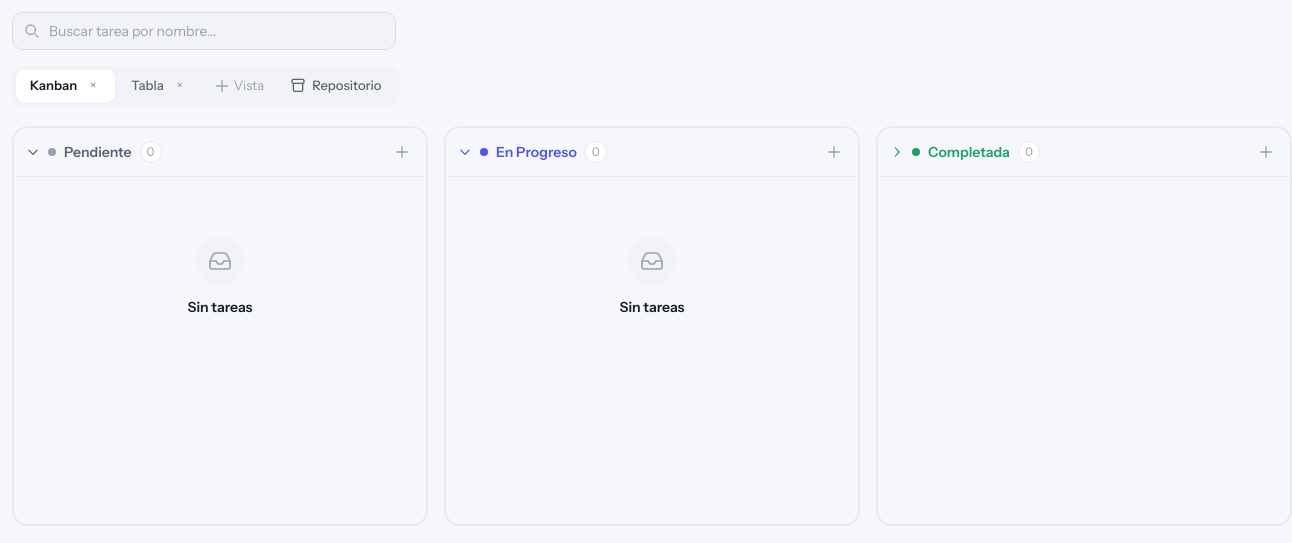
Test: TasksModule — barra de vistas › el panel de agregar vista no queda bajo un ancestro que lo recorte
The width and height of the screenshot is (1292, 543).
Click the button "Vista". click: (239, 86)
box: [204,70,274,102]
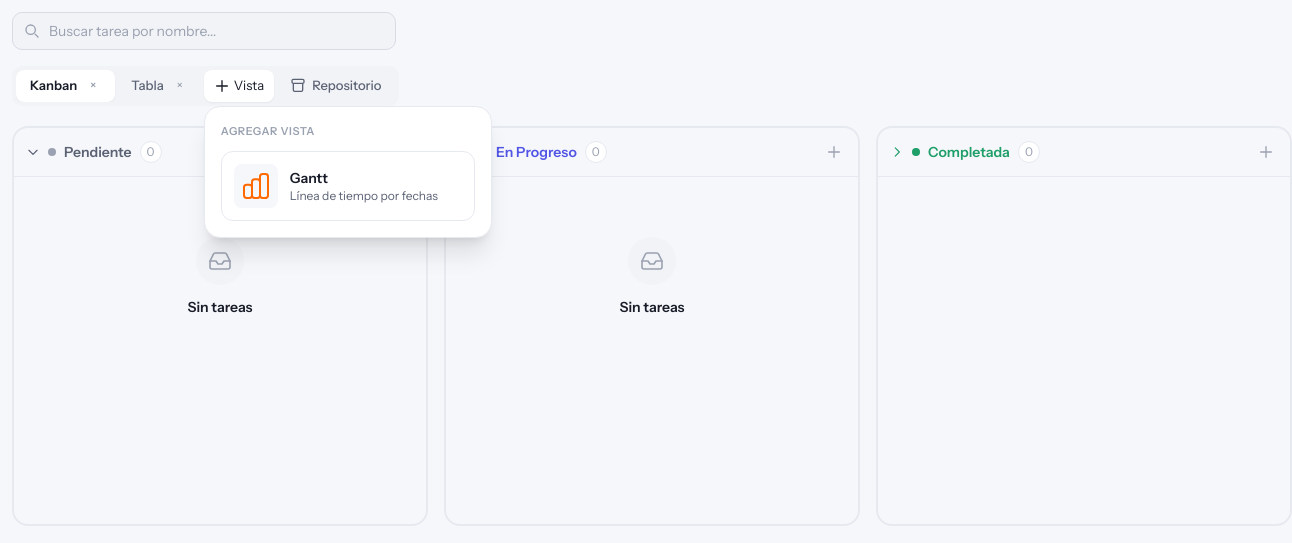
Expected: the text "Agregar vista" is shown, [221,124,315,138]
